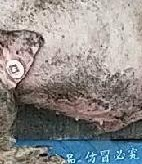text: (0, 51, 31, 87)
